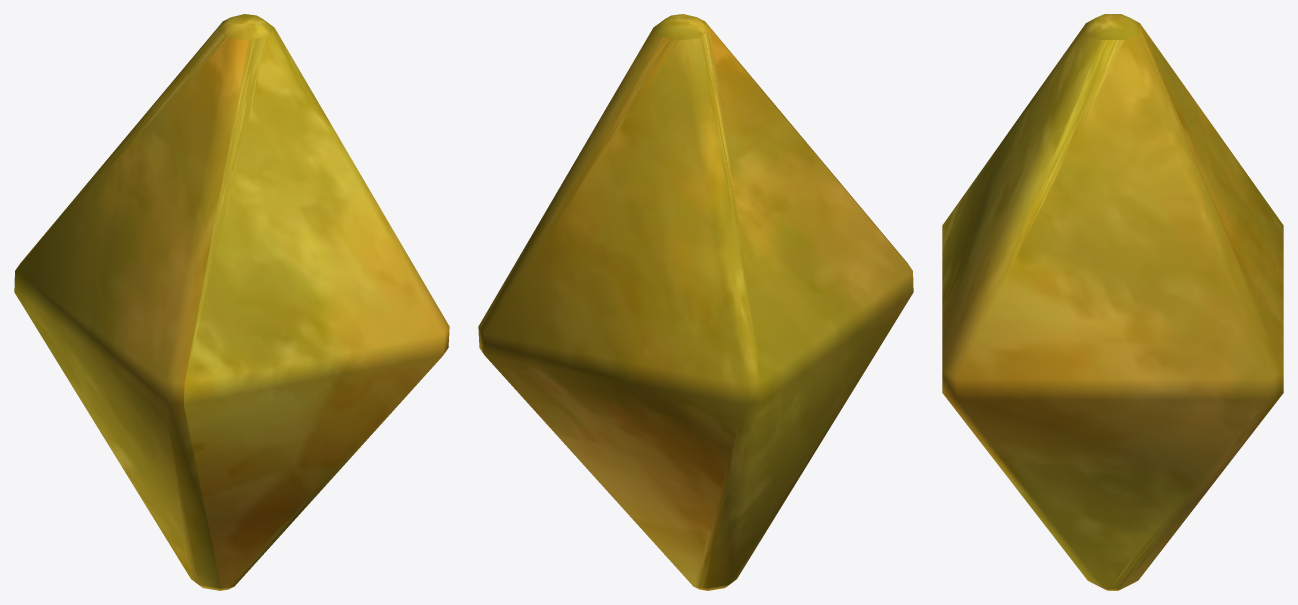
Rendered from Save_Crystal.glb.
The picture shows the model from 3 angles, left to right: view 1: azimuth 30°, elevation 25°; view 2: azimuth 150°, elevation 25°; view 3: azimuth 270°, elevation 25°; orthographic projection. The views are drawn at different scales.
Parts seen in each view (by area): view 1: Cube.001; view 2: Cube.001; view 3: Cube.001.
Part boxes in pixels (x1=…): Cube.001: x1=14, y1=14, x2=449, y2=590; Cube.001: x1=478, y1=14, x2=913, y2=590; Cube.001: x1=942, y1=14, x2=1283, y2=590.
Size of the model in its own units: 0.4829 by 0.9 by 0.4822.
Materials: 2 (2 with a texture image).
